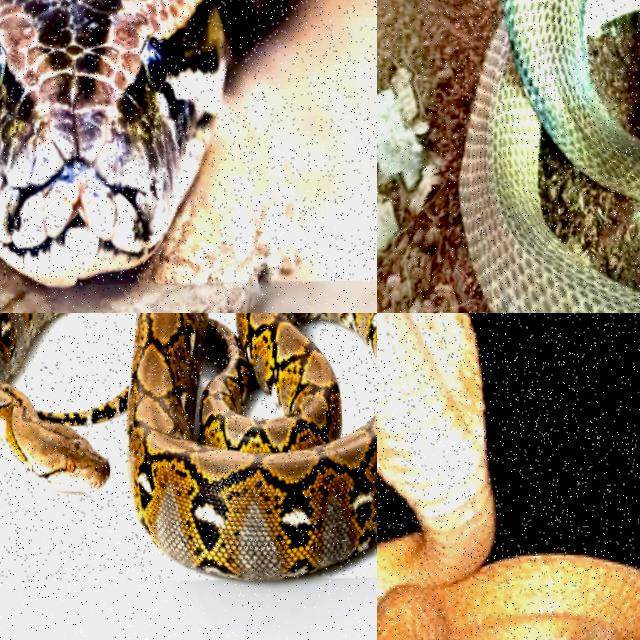Malayopython reticulatus: (127, 313, 376, 580)
Naja kaouthia: (377, 313, 639, 639)
Naja siamensis: (460, 0, 639, 312)
Python bivittatus: (0, 0, 225, 286)
snake: (377, 313, 639, 639), (127, 313, 376, 580), (0, 0, 225, 286), (460, 0, 639, 312)
